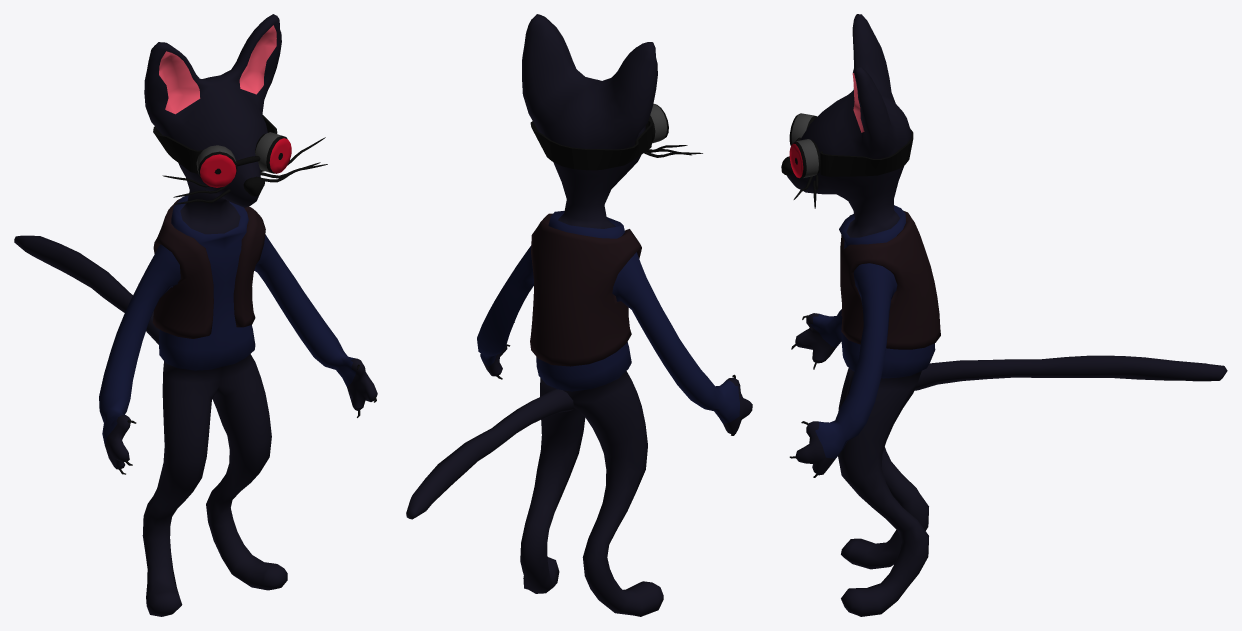
Rendered from CAT_I.fbx.
3 renders of one model, left to right at view 1: azimuth 30°, elevation 25°; view 2: azimuth 150°, elevation 25°; view 3: azimuth 270°, elevation 25°, orthographic. The views are drawn at different scales.
Parts seen in each view (by area): view 1: CAT_I_001; view 2: CAT_I_001; view 3: CAT_I_001.
Boxes of the visible parts, x1,y1,x2,y2 form: CAT_I_001: [14, 14, 377, 616]; CAT_I_001: [406, 14, 752, 616]; CAT_I_001: [781, 14, 1227, 616].
Size of the model in its own units: 0.2404 by 0.5058 by 0.3726.
